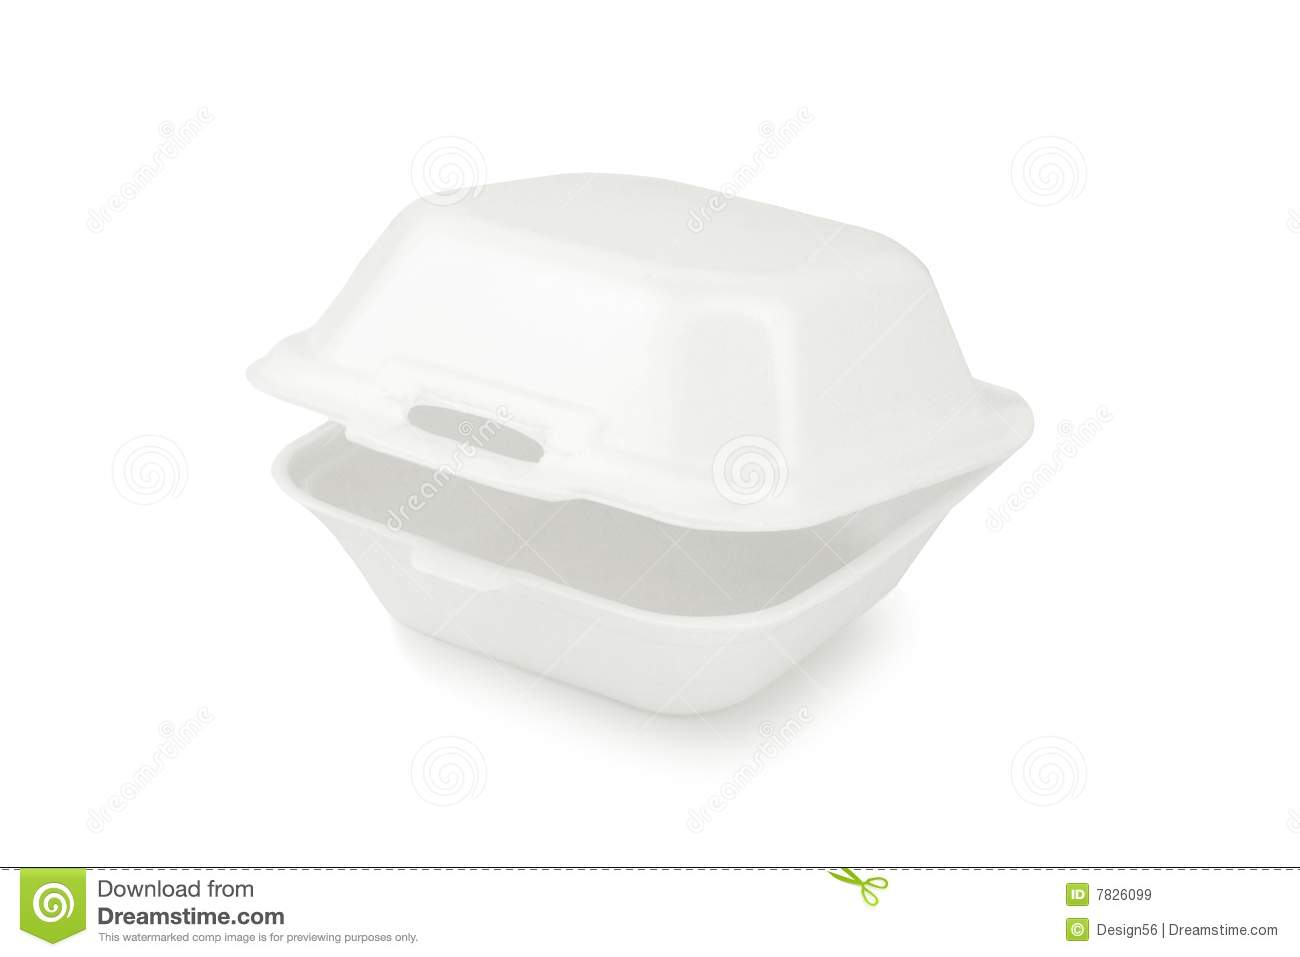Nonrec_Plastic: (217, 156, 1065, 712)
